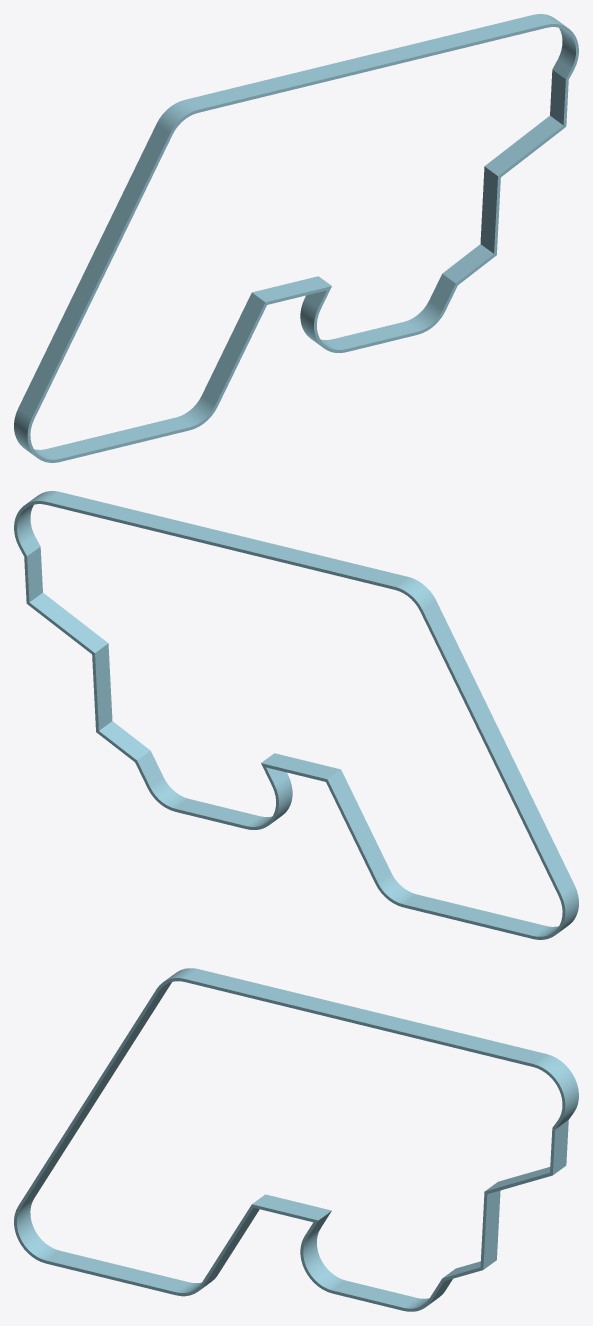
Rendered from barrier_2.obj.
3 views of the same model, one above another, from view 1: azimuth 30°, elevation 25°; view 2: azimuth 150°, elevation 25°; view 3: azimuth 330°, elevation 25° (orthographic).
Visible parts, largest first — view 1: Barrier_2; view 2: Barrier_2; view 3: Barrier_2.
Boxes of the visible parts, x1,y1,x2,y2 form: Barrier_2: (14,14,578,462); Barrier_2: (14,491,578,939); Barrier_2: (14,968,578,1311).
Size of the model in its own units: 0.3754 by 0.2072 by 0.016.
